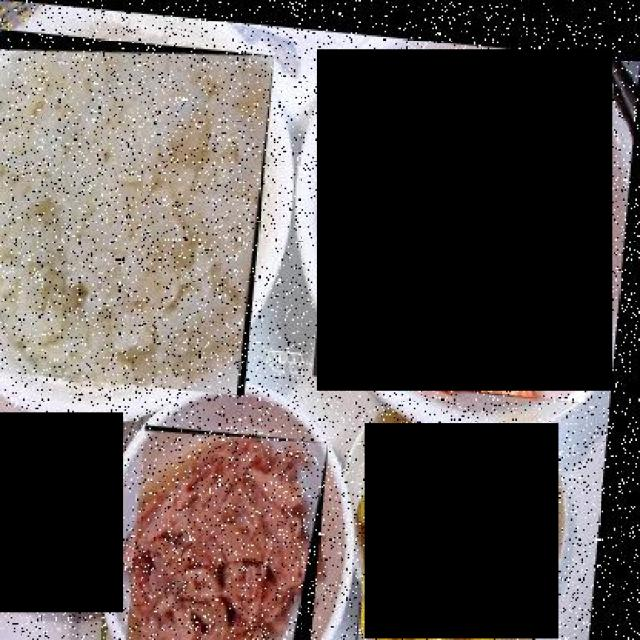Corn: (364, 423, 558, 639)
Egg: (0, 413, 123, 612)
kimchi: (318, 50, 613, 392)
